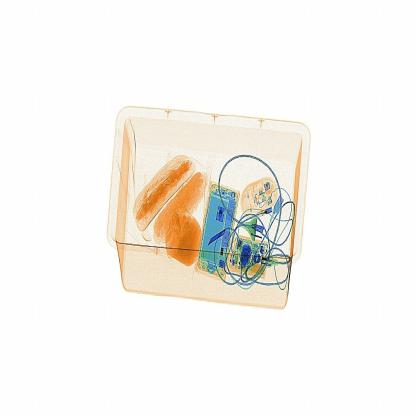pliers: (203, 222, 228, 255)
